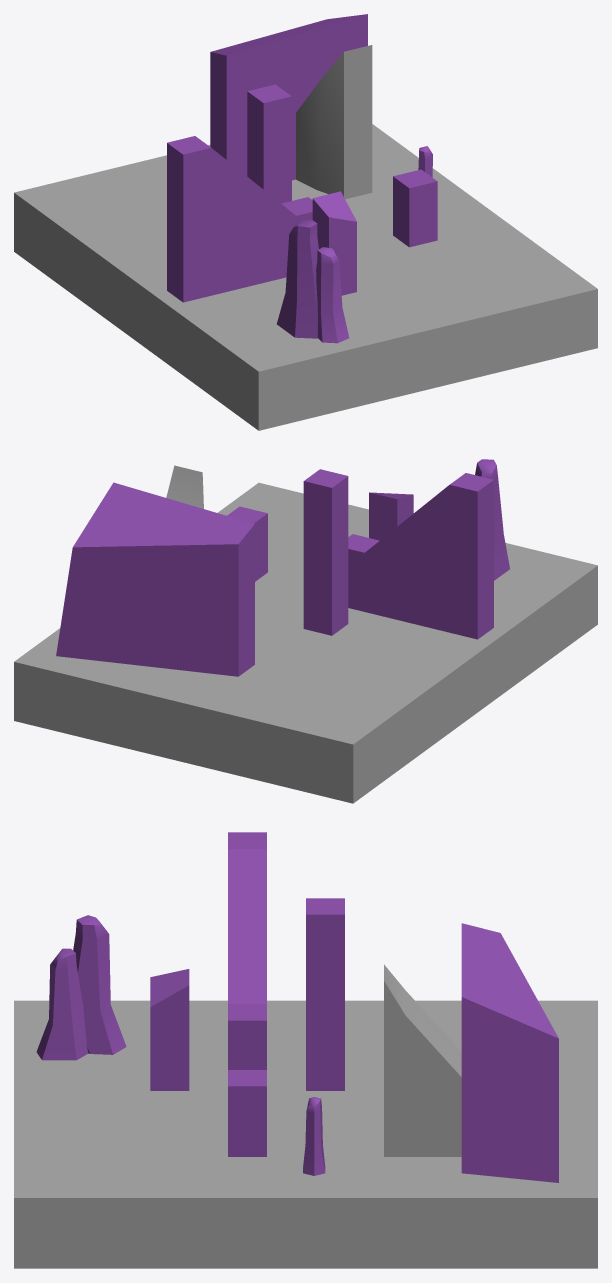
File: small_lava_cave_env.fbx
3 renders of one model, top to bottom at view 1: azimuth 30°, elevation 25°; view 2: azimuth 150°, elevation 25°; view 3: azimuth 270°, elevation 25°, orthographic. The views are drawn at different scales.
Visible parts, largest first — view 1: lake, deco; view 2: lake, deco; view 3: lake, deco.
Part boxes in pixels (x1,y1,x2,y2): lake: (14, 124, 597, 430); deco: (167, 14, 437, 343); lake: (14, 482, 597, 803); deco: (56, 459, 509, 676); lake: (14, 1000, 597, 1268); deco: (36, 832, 558, 1182).
Bounding box in the file's own units: 12 × 7 × 15.
